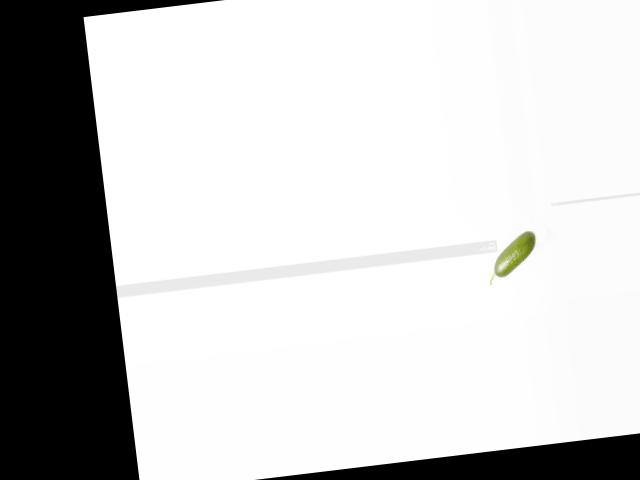cucumber: (482, 229, 539, 284)
